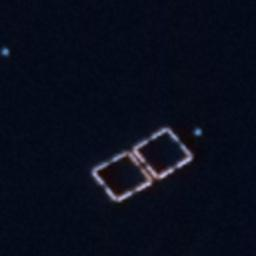square_solid: (131, 122, 196, 187), (88, 148, 156, 206)
